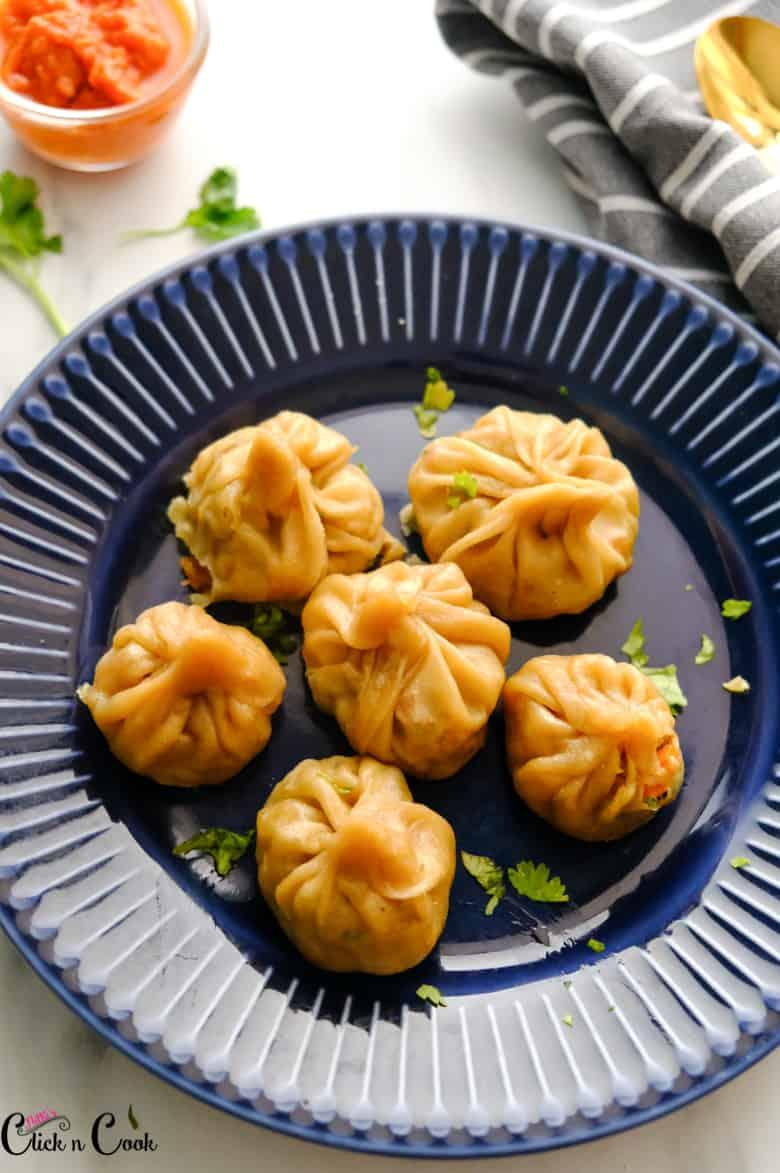momos: (403, 406, 639, 621), (167, 410, 406, 608), (302, 561, 511, 779), (257, 756, 456, 975), (78, 603, 286, 786), (502, 653, 685, 840)
